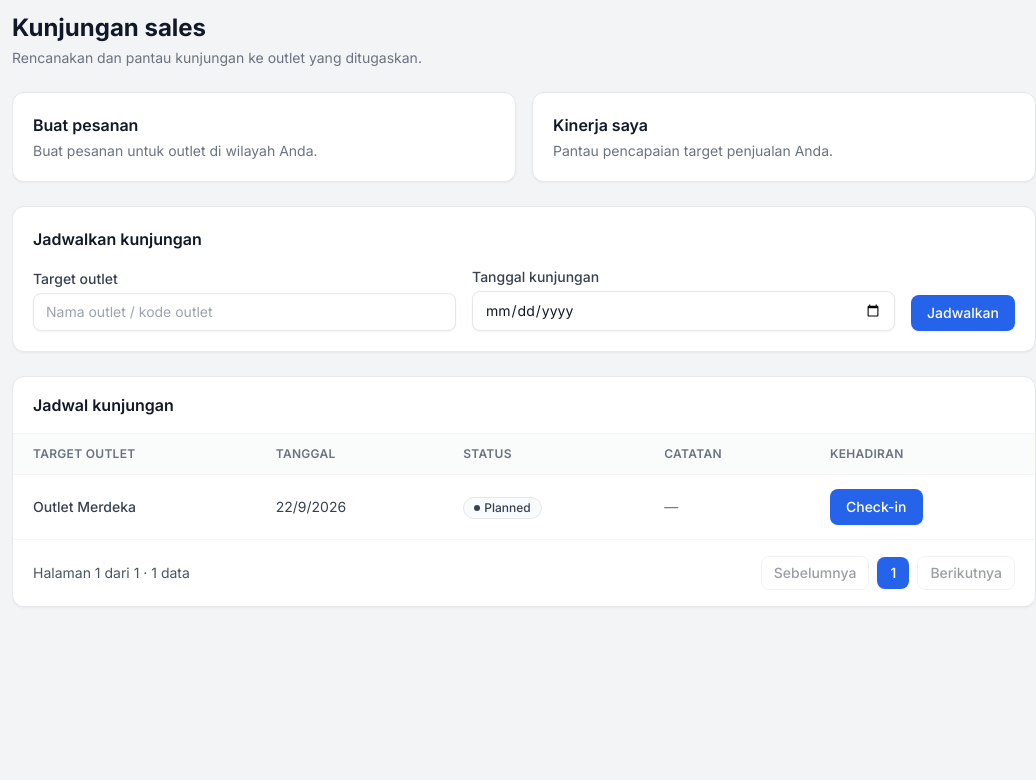
Test case: sales visit check-in/out › shows the radius error returned by the API
Expected: the text "Outlet Merdeka" is shown, [33,498,136,515]
Click the button "Check-in" at x=876, y=507, box [830,489,922,525]
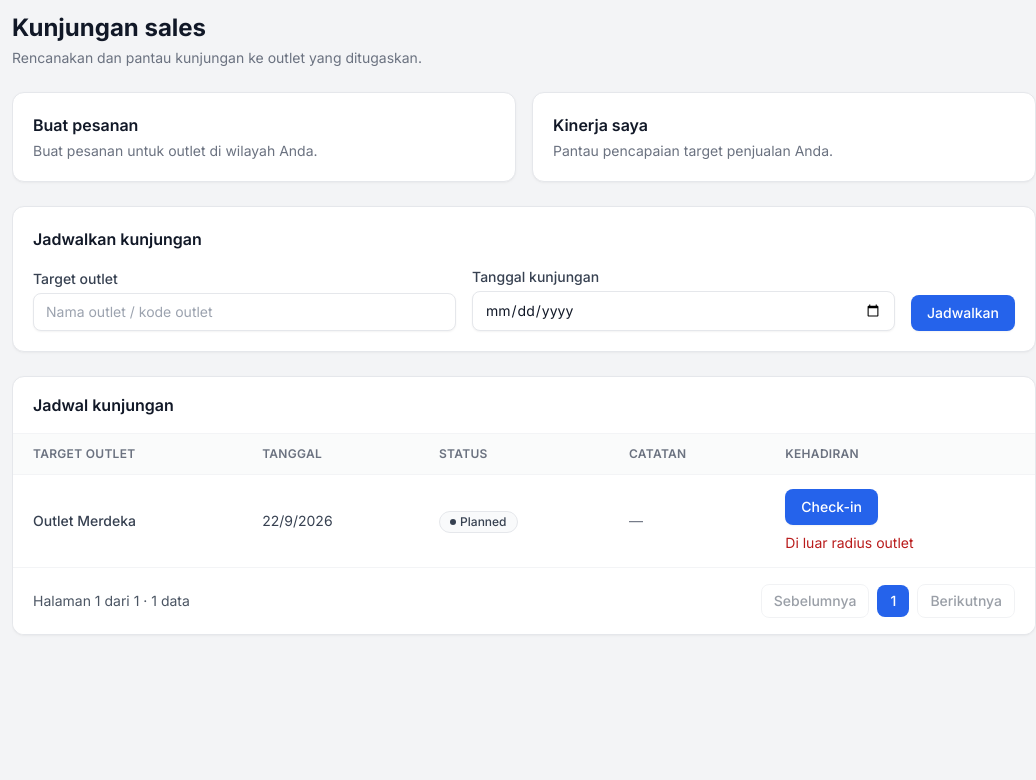
Result: the text "Di luar radius outlet" is shown at [785,534,914,551]
